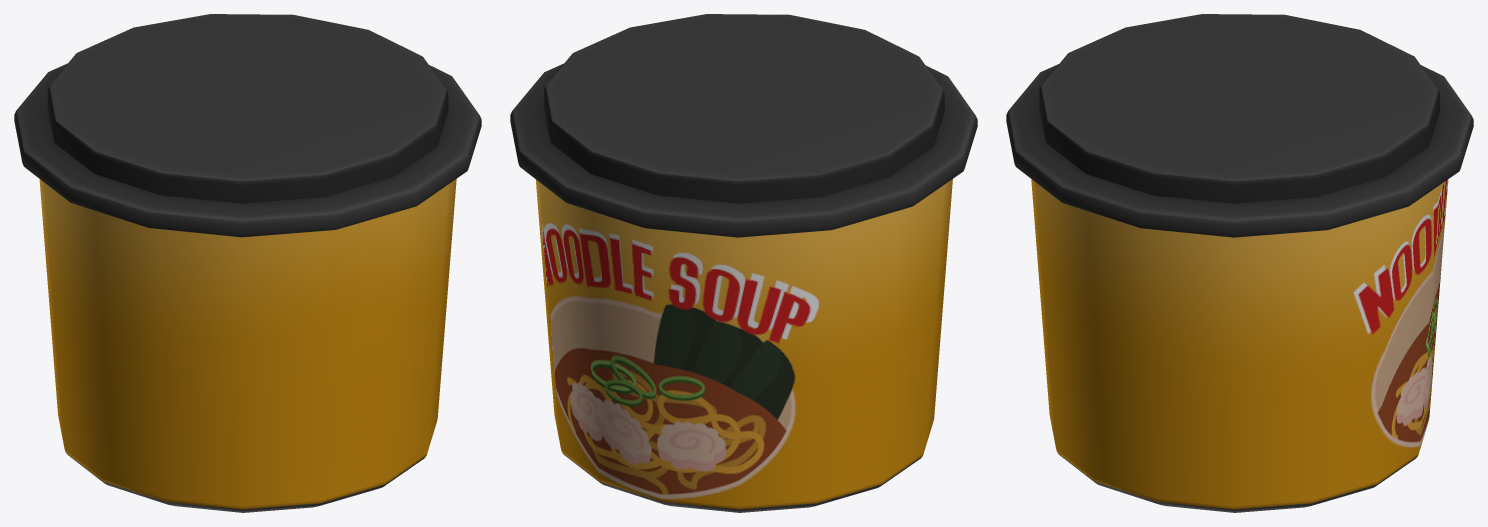
File: hop mi tom.fbx
3 renders of one model, left to right at view 1: azimuth 30°, elevation 25°; view 2: azimuth 150°, elevation 25°; view 3: azimuth 270°, elevation 25°, orthographic.
Visible parts, largest first — view 1: pCylinder3; view 2: pCylinder3; view 3: pCylinder3.
Boxes of the visible parts, x1,y1,x2,y2 form: pCylinder3: [14, 14, 481, 512]; pCylinder3: [510, 14, 977, 512]; pCylinder3: [1006, 14, 1473, 512].
Bounding box in the file's own units: 73.01 × 60.38 × 73.23.
1 material, 1 textured.
